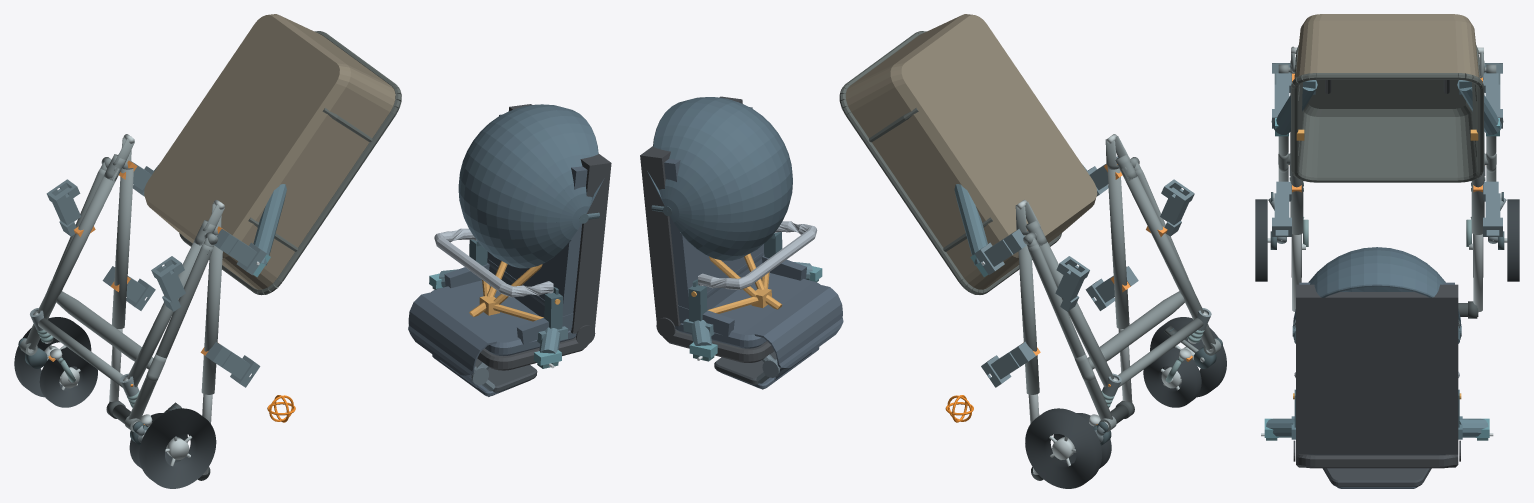
Rendered from D14_w550_state3_wheel_S.glb.
3 views of the same model, side by side, from view 1: azimuth 30°, elevation 25°; view 2: azimuth 150°, elevation 25°; view 3: azimuth 270°, elevation 25° (orthographic).
Visible parts, largest first — view 1: D14_Upper, D14_Lower, RL_tire.004, main_upper_1.005, main_lower_1.005, FR_tire.004, V46_rear_leg_-1.005, main_upper_-1.005, V46_rearbar.005, RR_tire.004, main_lower_-1.005, D14_Lower_Mount_M (+8 smaller); view 2: D14_Upper, D14_Lower, RR_tire.004, main_upper_-1.005, main_lower_-1.005, FL_tire.004, V46_rear_leg_1.005, main_upper_1.005, V46_rearbar.005, main_lower_1.005, RL_tire.004, D14_Lower_Mount_M (+8 smaller); view 3: D14_Upper, D14_Lower, D14_Lower_Mount_M, D14_Upper_Mount_H, RL_tire.004, RR_tire.004, Universal_Cabin_Receiver_H_1, Universal_Cabin_Receiver_H_-1, main_upper_1.005, main_upper_-1.005, handle_slider_1.004, Universal_Cabin_Receiver_M_1 (+4 smaller).
Boxes of the visible parts, bbox=[...] form: D14_Upper: bbox=[408, 104, 611, 396]; D14_Lower: bbox=[144, 14, 401, 295]; RL_tire.004: bbox=[139, 408, 216, 488]; main_upper_1.005: bbox=[111, 168, 133, 328]; main_lower_1.005: bbox=[37, 168, 119, 319]; FR_tire.004: bbox=[39, 347, 97, 407]; V46_rear_leg_-1.005: bbox=[128, 243, 213, 419]; main_upper_-1.005: bbox=[201, 235, 222, 394]; V46_rearbar.005: bbox=[56, 291, 153, 369]; RR_tire.004: bbox=[14, 317, 91, 397]; main_lower_-1.005: bbox=[127, 240, 204, 387]; D14_Lower_Mount_M: bbox=[154, 165, 286, 277]; D14_Upper: bbox=[640, 96, 843, 389]; D14_Lower: bbox=[839, 14, 1097, 294]; RR_tire.004: bbox=[1025, 408, 1101, 488]; main_upper_-1.005: bbox=[1107, 168, 1129, 328]; main_lower_-1.005: bbox=[1121, 168, 1203, 319]; FL_tire.004: bbox=[1143, 347, 1201, 407]; V46_rear_leg_1.005: bbox=[1028, 244, 1112, 419]; main_upper_1.005: bbox=[1018, 235, 1039, 394]; V46_rearbar.005: bbox=[1087, 291, 1184, 369]; main_lower_1.005: bbox=[1036, 240, 1113, 387]; RL_tire.004: bbox=[1150, 317, 1226, 397]; D14_Lower_Mount_M: bbox=[954, 164, 1087, 276]; D14_Upper: bbox=[1292, 247, 1461, 488]; D14_Lower: bbox=[1291, 14, 1483, 182]; D14_Lower_Mount_M: bbox=[1271, 80, 1503, 136]; D14_Upper_Mount_H: bbox=[1261, 416, 1493, 440]; RL_tire.004: bbox=[1255, 199, 1267, 281]; RR_tire.004: bbox=[1507, 199, 1519, 281]; Universal_Cabin_Receiver_H_1: bbox=[1483, 181, 1502, 236]; Universal_Cabin_Receiver_H_-1: bbox=[1272, 181, 1291, 236]; main_upper_1.005: bbox=[1471, 80, 1484, 234]; main_upper_-1.005: bbox=[1290, 80, 1303, 234]; handle_slider_1.004: bbox=[1473, 234, 1482, 312]; Universal_Cabin_Receiver_M_1: bbox=[1483, 73, 1502, 128].
Bounding box in the file's own units: 1.41 × 1.02 × 0.641.
